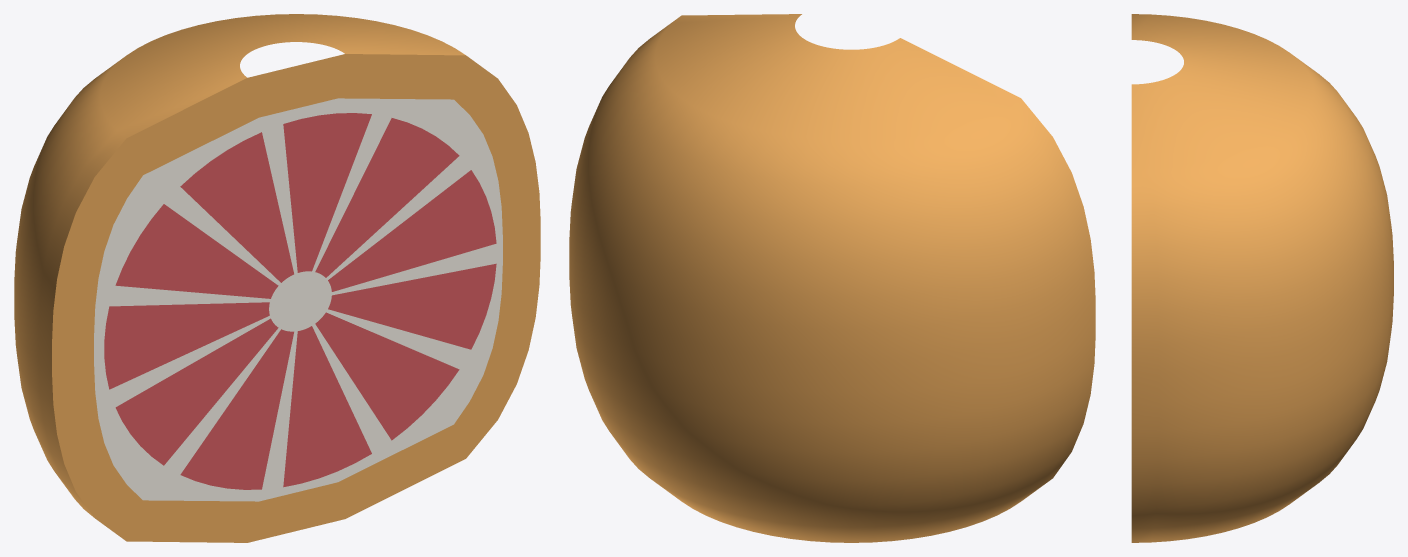
Rendered from fresh-produce-and-groceries-grapefruit-half-a1ecceb3__24330.glb.
The picture shows the model from 3 angles, left to right: view 1: azimuth 30°, elevation 25°; view 2: azimuth 150°, elevation 25°; view 3: azimuth 270°, elevation 25°; orthographic projection. The views are drawn at different scales.
Parts seen in each view (by area): view 1: grapefruit-half; view 2: grapefruit-half; view 3: grapefruit-half.
Part boxes in pixels (x1,y1,x2,y2): grapefruit-half: (14,14,540,542); grapefruit-half: (569,14,1095,542); grapefruit-half: (1131,14,1393,542).
Bounding box in the file's own units: 0.11 × 0.1 × 0.0566.
